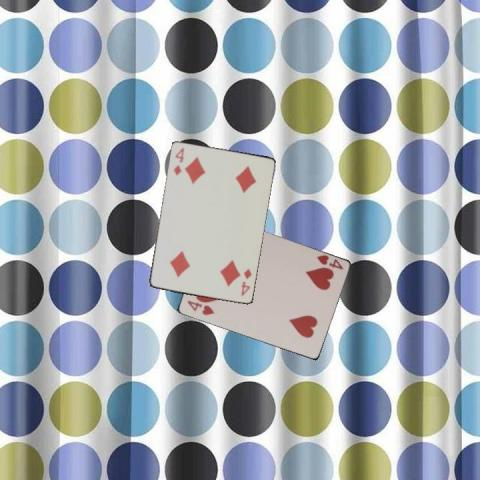4d: (238, 265, 253, 297), (171, 144, 185, 176)
4h: (184, 297, 215, 317), (313, 252, 344, 271)
